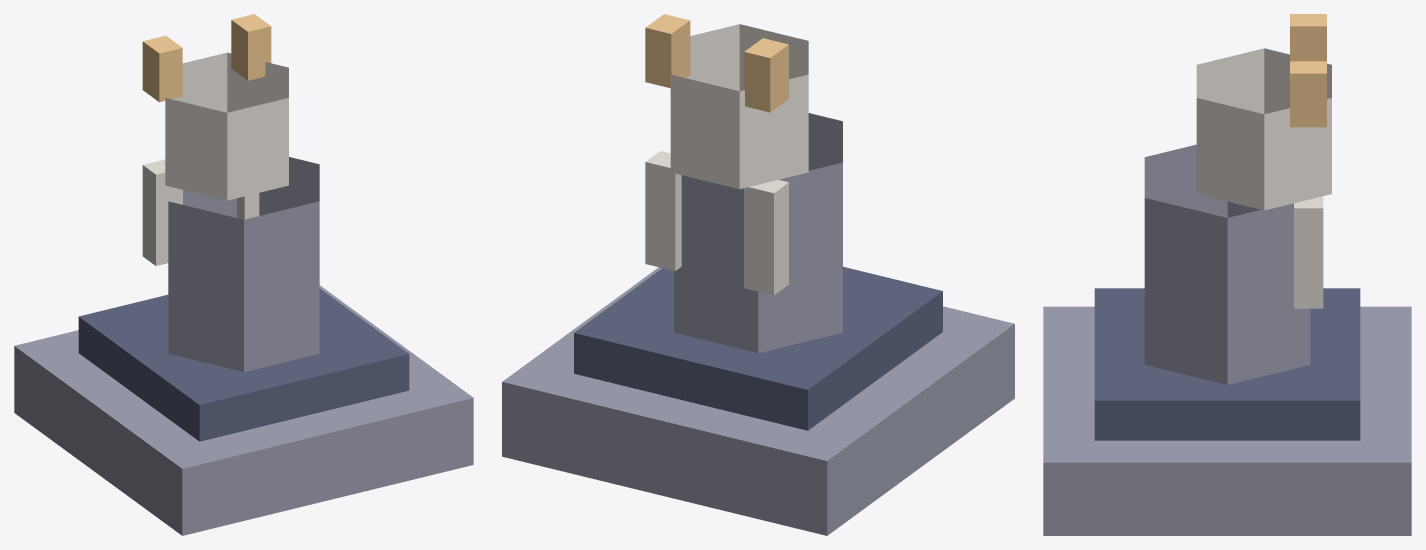
Rendered from dojo_komainu_plinth_lod1.gltf.
The picture shows the model from 3 angles, left to right: view 1: azimuth 30°, elevation 25°; view 2: azimuth 150°, elevation 25°; view 3: azimuth 270°, elevation 25°; orthographic projection. The views are drawn at different scales.
Parts seen in each view (by area): view 1: dojo_komainu_plinth_lod1; view 2: dojo_komainu_plinth_lod1; view 3: dojo_komainu_plinth_lod1.
Boxes of the visible parts, x1,y1,x2,y2 form: dojo_komainu_plinth_lod1: (14,14,473,535); dojo_komainu_plinth_lod1: (502,14,1014,535); dojo_komainu_plinth_lod1: (1043,14,1411,535).
Bounding box in the file's own units: 2.5 × 3.1 × 2.5.
